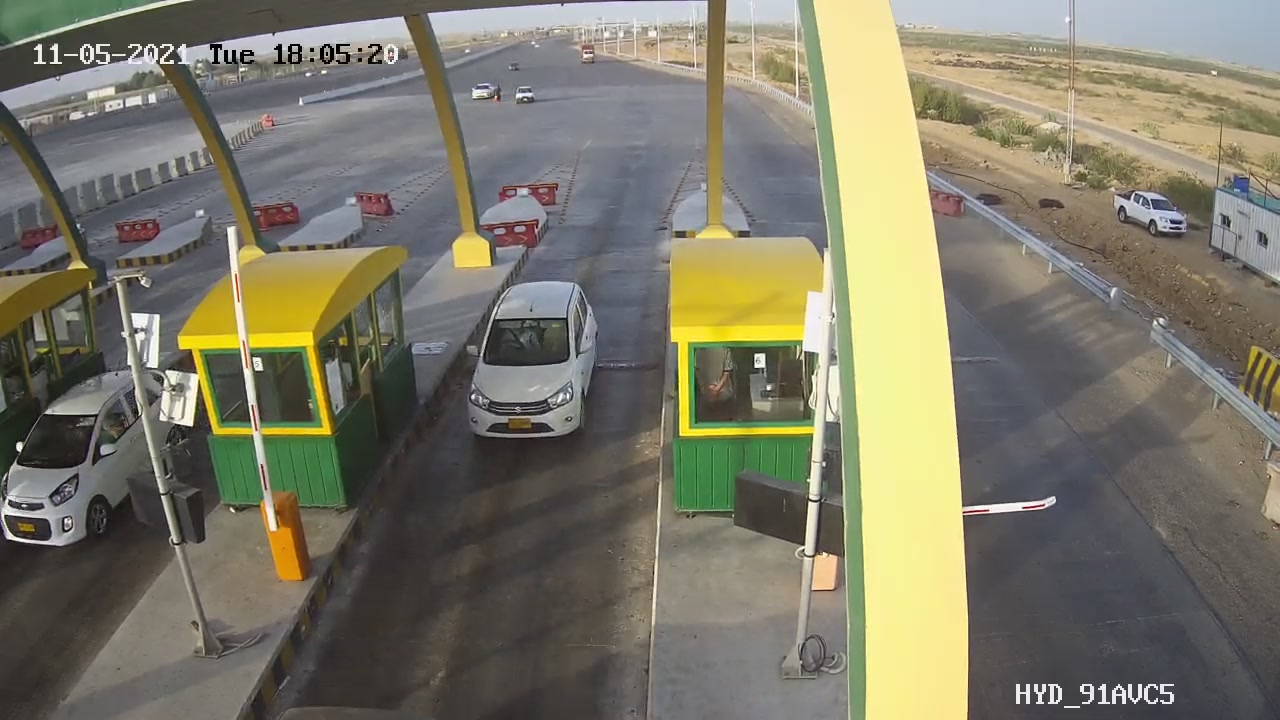F1: (451, 278, 648, 485)
